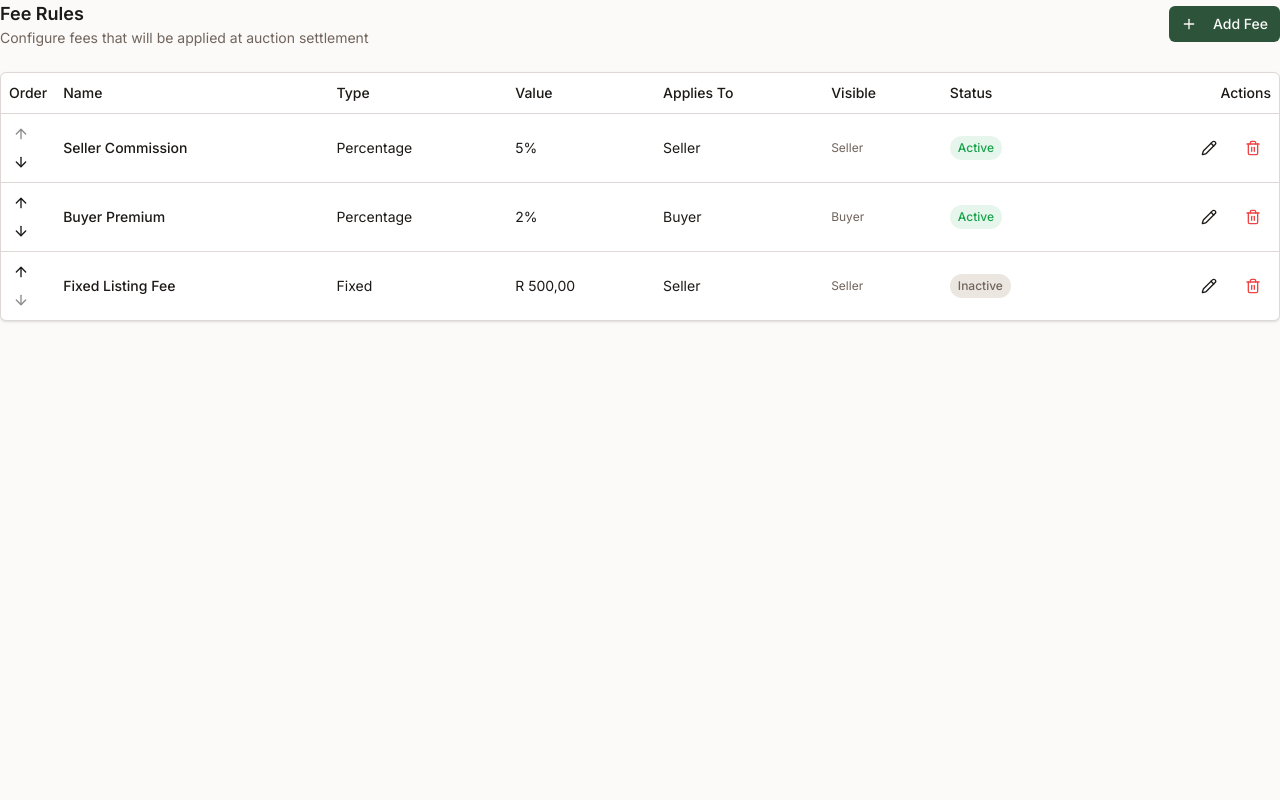
Test: FeeManager › opens delete confirmation dialog
Step 1. Click the button named "delete fee seller commission" → (1253, 148), box [1235, 132, 1271, 164]
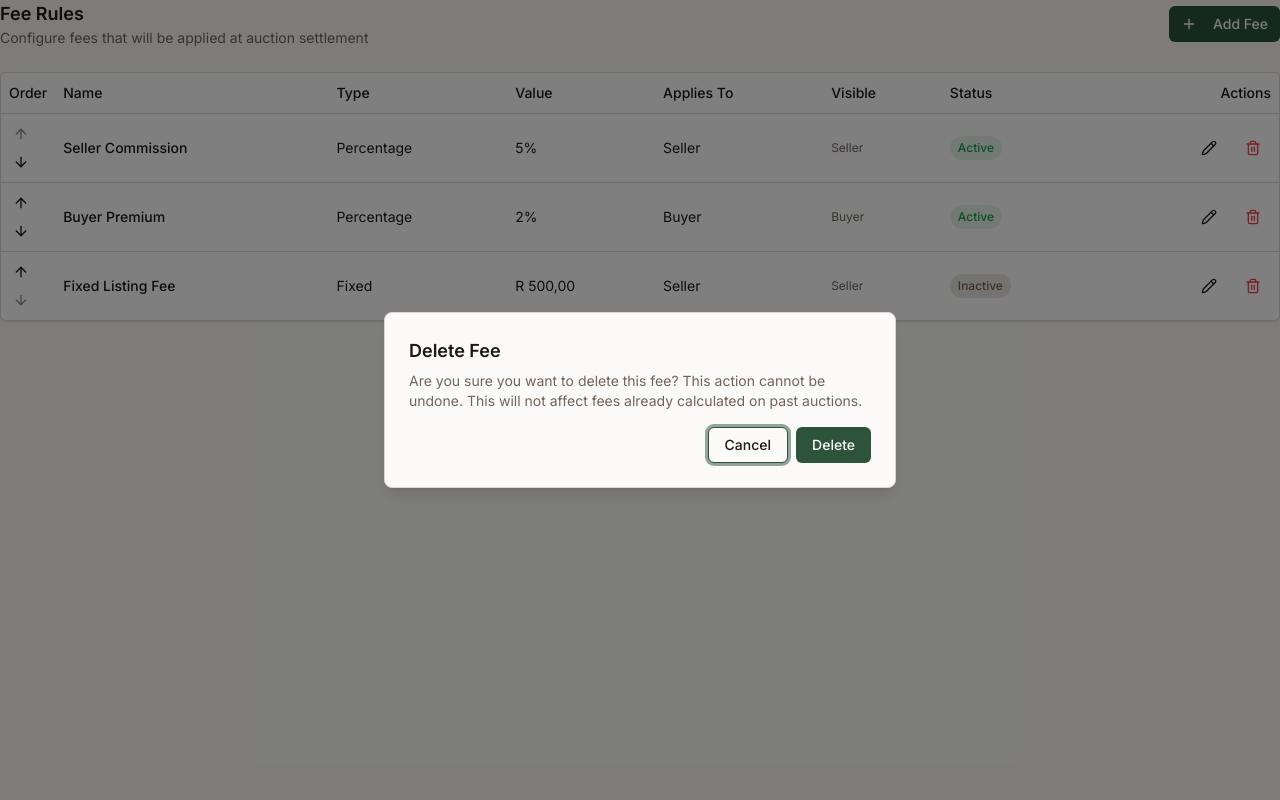
Check: the heading "Delete Fee" is shown, box [409, 337, 501, 365]
Check: the text "Are you sure you want to delete this fee" is shown, box [409, 372, 862, 409]
